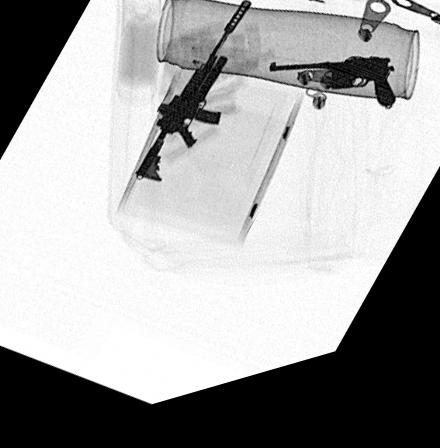Gun: (133, 11, 252, 190), (268, 75, 396, 128)
